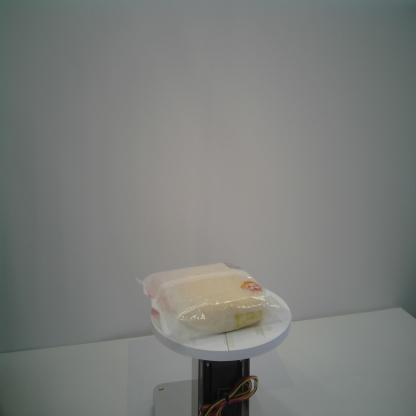Dessert: (132, 260, 288, 343)
